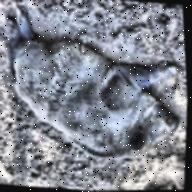boar: (0, 0, 192, 187)
